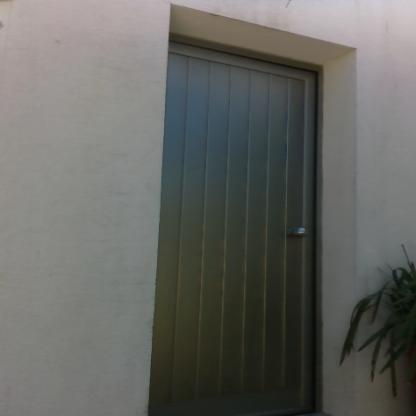door: (170, 40, 318, 410)
knob: (295, 222, 312, 240)
